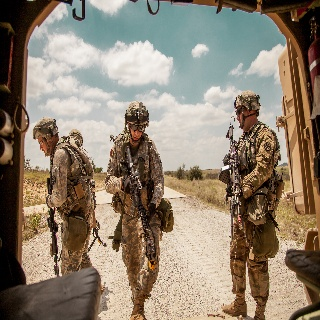rifle: (123, 145, 159, 263), (224, 123, 251, 248), (44, 177, 63, 277)
